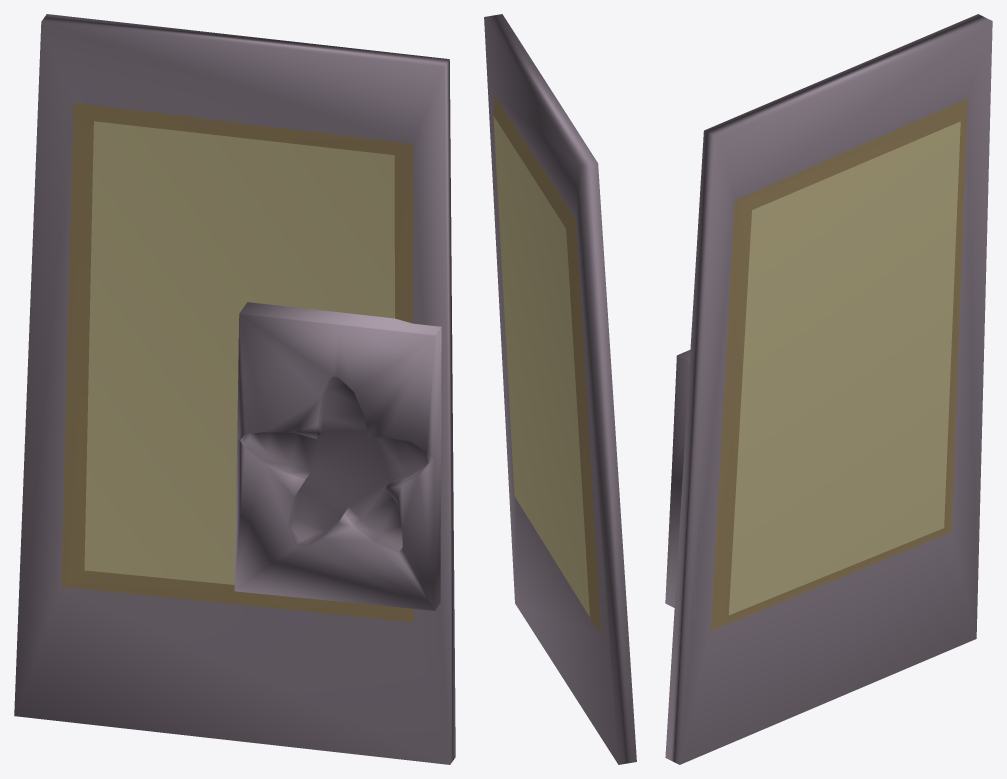
File: LighthouseUpperDoorLightOff.glb
3 views of the same model, side by side, from view 1: azimuth 30°, elevation 25°; view 2: azimuth 150°, elevation 25°; view 3: azimuth 270°, elevation 25° (orthographic). The views are drawn at different scales.
Parts seen in each view (by area): view 1: LighthouseUpperDoorLightOff; view 2: LighthouseUpperDoorLightOff; view 3: LighthouseUpperDoorLightOff.
Boxes of the visible parts, bbox=[...] form: LighthouseUpperDoorLightOff: bbox=[14, 14, 455, 764]; LighthouseUpperDoorLightOff: bbox=[484, 14, 636, 764]; LighthouseUpperDoorLightOff: bbox=[665, 14, 992, 764].
Size of the model in its own units: 0.7425 by 1.58 by 0.7398.
